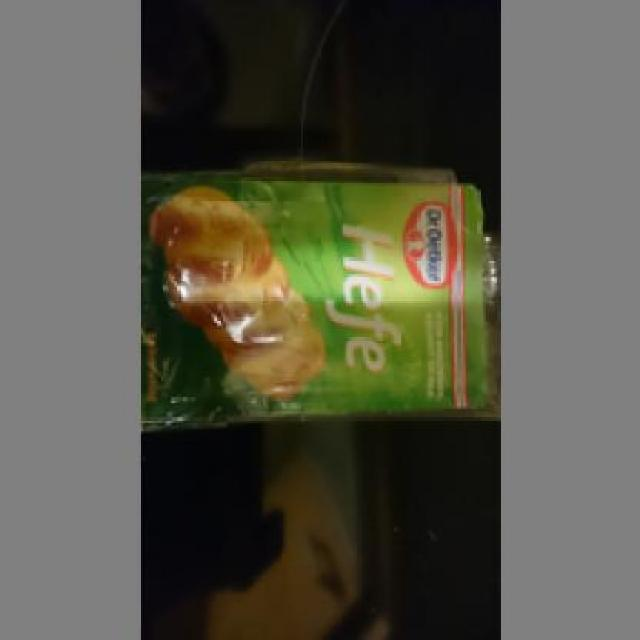Cake: (134, 168, 492, 426)
